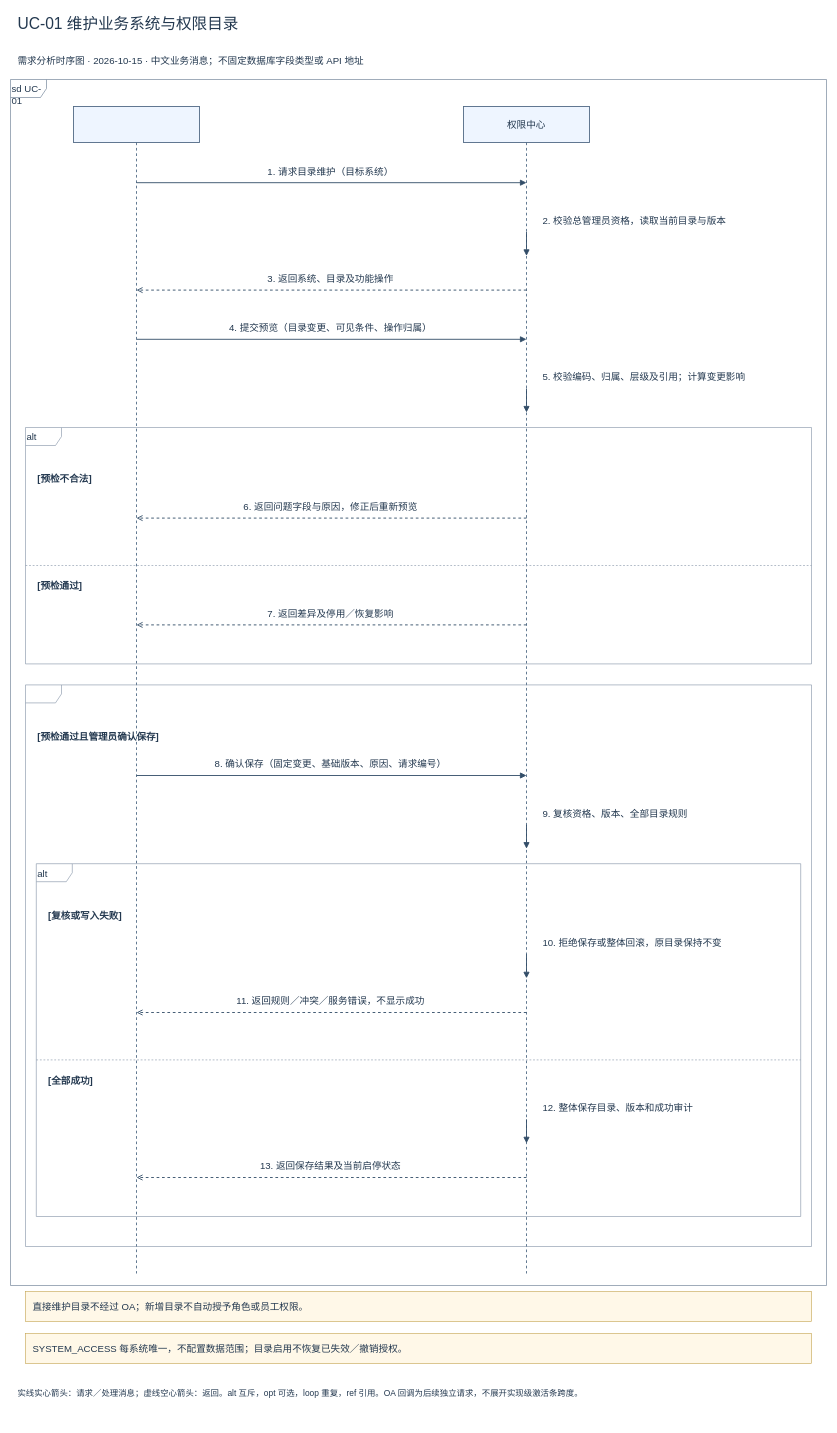
Some shapes in this 837 by 1433 pixel diagram are drawn without their labels. Here are the shapes that lost their labels. From the top down, the box of each, then its label:
(73, 106, 200, 1274): 权限中心总管理员
(25, 684, 812, 1246): opt
